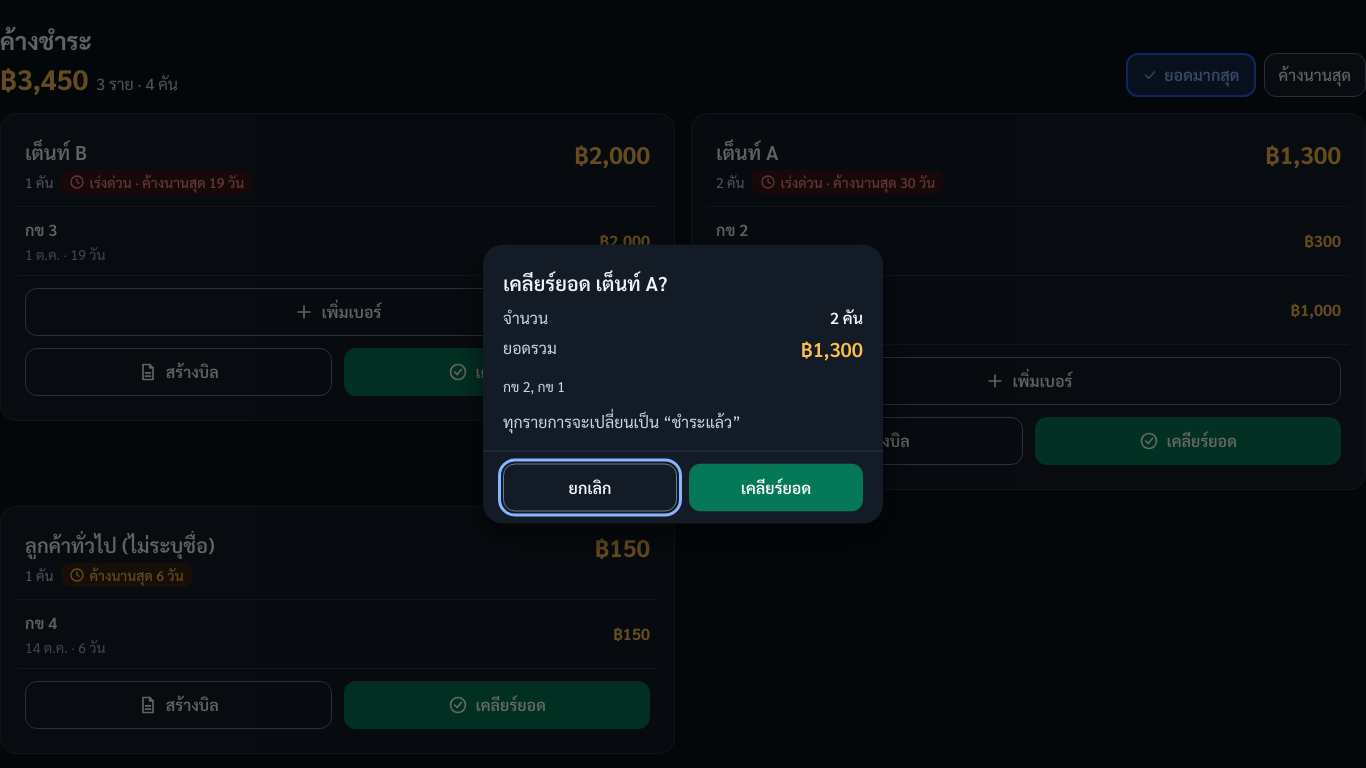
Test case: DebtsScreen › keeps the debt when settling fails
The image size is (1366, 768).
Click the button "เคลียร์ยอด" at (776, 488), box [689,464,863,512]
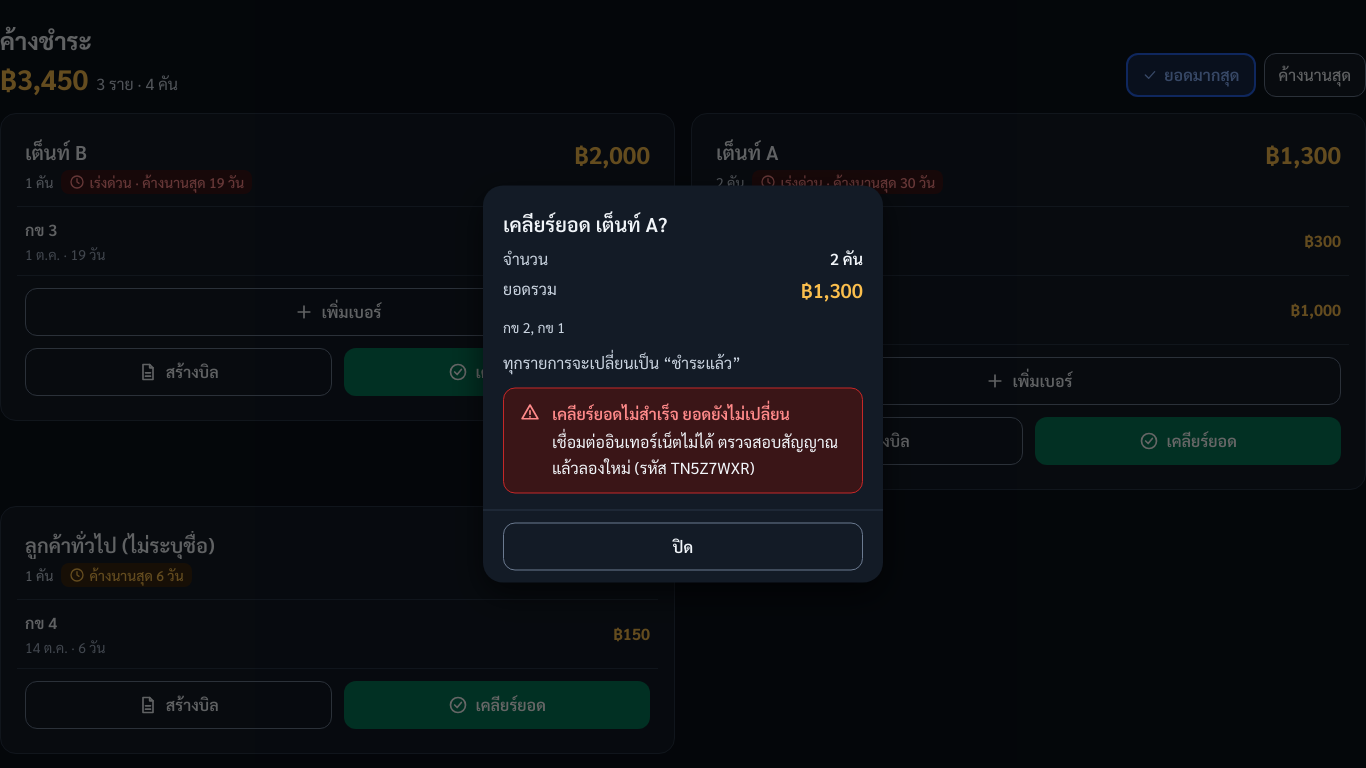
expect the message shows "เคลียร์ยอดไม่สำเร็จ ยอดยังไม่เปลี่ยน": met, box [552,402,790,424]
